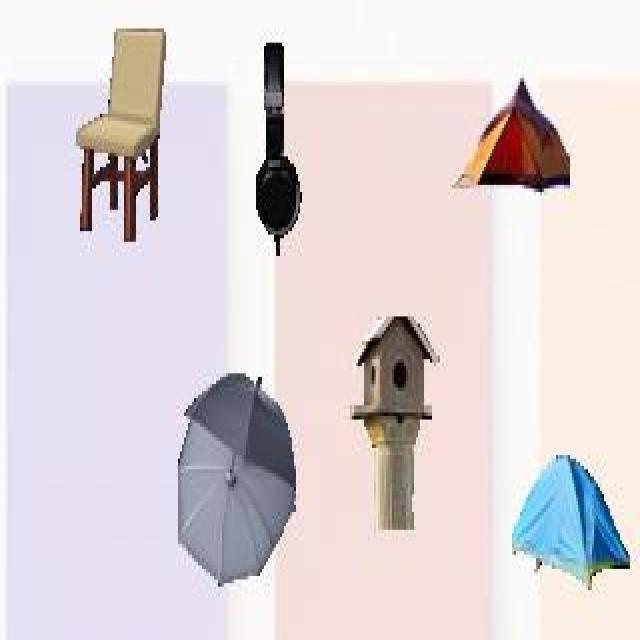Other Objects: (256, 38, 303, 256)
